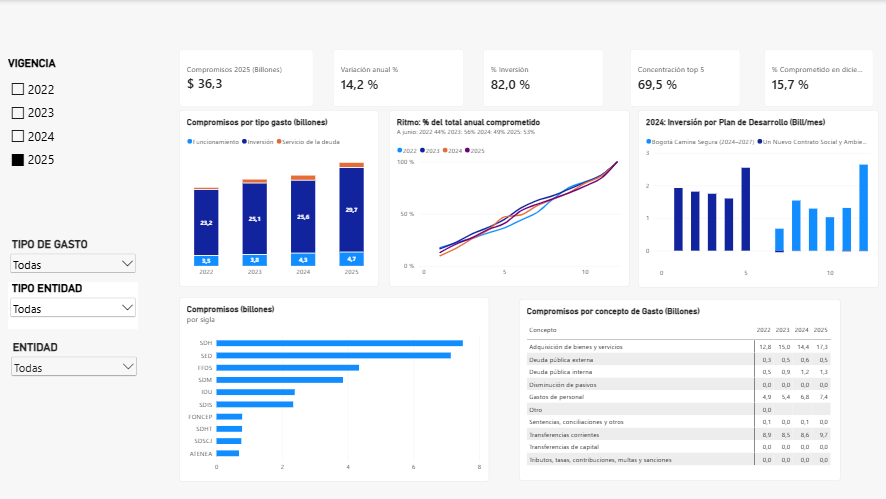

The dashboard page shown, as its layout file describes it:
{"tool":"powerbi","page":{"name":"Página 1","canvas":[1920,1080],"ordinal":0},"visuals":[{"type":"slicer","title":"VIGENCIA","fields":{"Values":["Calendario.vigencia"]},"box":[18.3,123.3,280.5,369.9],"z":0},{"type":"slicer","fields":{"Values":["Entidad.tipo_entidad"]},"box":[18.3,608.3,281.2,102.1],"z":1000},{"type":"slicer","fields":{"Values":["Rubro.tipo_gasto"]},"box":[18.3,515,281.2,75.2],"z":2000},{"type":"slicer","fields":{"Values":["Entidad.entidad"]},"box":[20,736.7,280.5,97.7],"z":3000},{"type":"cardVisual","fields":{"Data":["_Medidas.Compromisos (billones)"]},"box":[386.7,105,290.9,124.7],"z":4000},{"type":"cardVisual","fields":{"Data":["_Medidas.Variación anual %"]},"box":[720,105,283.3,125],"z":5000},{"type":"cardVisual","fields":{"Data":["_Medidas.% Inversión"]},"box":[1043.3,105,260,125],"z":6000},{"type":"cardVisual","fields":{"Data":["_Medidas.Concentración top 5"]},"box":[1360,106.7,238.3,125],"z":7000},{"type":"cardVisual","fields":{"Data":["_Medidas.% Comprometido en diciembre"]},"box":[1650,105,236.7,125],"z":8000},{"type":"columnChart","title":"Compromisos por tipo gasto (billones)","fields":{"Category":["Calendario.vigencia"],"Series":["Rubro.tipo_gasto"],"Y":["_Medidas.Compromisos (billones)"]},"box":[386.7,238.3,431.7,381.7],"z":9000},{"type":"barChart","fields":{"Category":["Entidad.sigla"],"Y":["_Medidas.Compromisos (billones)"]},"box":[386,642,669.6,399.1],"z":10000},{"type":"lineChart","title":"Ritmo: % del total anual comprometido","fields":{"Category":["Calendario.mes"],"Series":["Calendario.vigencia"],"Y":["_Medidas.% Avance del año"]},"box":[840,238.3,520.2,382.1],"z":11000},{"type":"pivotTable","title":"Compromisos por concepto de Gasto (Billones)","fields":{"Columns":["Calendario.vigencia"],"Rows":["Rubro.concepto_gasto"],"Values":["_Medidas.Compromisos (billones)"]},"box":[1121.7,646.7,695,393.3],"z":12000},{"type":"columnChart","title":"2024: Inversión por Plan de Desarrollo (Bill/mes)","fields":{"Category":["Calendario.mes"],"Series":["Programa.plan_desarrollo"],"Y":["_Medidas.Compromisos (billones)"]},"box":[1378,238,520.2,384],"z":13000},{"type":"textbox","box":[395,1.7,1175,76.7],"z":14000}]}

Visuals, with their boxes in screenshot pixels (x1, y1, x2, y2), scaled from the page's 1920x1080 canvas onto the 886x499 screenshot:
"VIGENCIA" slicer: {"x1": 8, "y1": 57, "x2": 138, "y2": 228}
slicer - Entidad.tipo_entidad: {"x1": 8, "y1": 281, "x2": 138, "y2": 328}
slicer - Rubro.tipo_gasto: {"x1": 8, "y1": 238, "x2": 138, "y2": 273}
slicer - Entidad.entidad: {"x1": 9, "y1": 340, "x2": 139, "y2": 386}
cardVisual - _Medidas.Compromisos (billones): {"x1": 178, "y1": 49, "x2": 313, "y2": 106}
cardVisual - _Medidas.Variación anual %: {"x1": 332, "y1": 49, "x2": 463, "y2": 106}
cardVisual - _Medidas.% Inversión: {"x1": 481, "y1": 49, "x2": 601, "y2": 106}
cardVisual - _Medidas.Concentración top 5: {"x1": 628, "y1": 49, "x2": 738, "y2": 107}
cardVisual - _Medidas.% Comprometido en diciembre: {"x1": 761, "y1": 49, "x2": 871, "y2": 106}
"Compromisos por tipo gasto (billones)" columnChart: {"x1": 178, "y1": 110, "x2": 378, "y2": 286}
barChart - Entidad.sigla x _Medidas.Compromisos (billones): {"x1": 178, "y1": 297, "x2": 487, "y2": 481}
"Ritmo: % del total anual comprometido" lineChart: {"x1": 388, "y1": 110, "x2": 628, "y2": 287}
"Compromisos por concepto de Gasto (Billones)" pivotTable: {"x1": 518, "y1": 299, "x2": 838, "y2": 481}
"2024: Inversión por Plan de Desarrollo (Bill/mes)" columnChart: {"x1": 636, "y1": 110, "x2": 876, "y2": 287}
textbox: {"x1": 182, "y1": 1, "x2": 724, "y2": 36}
